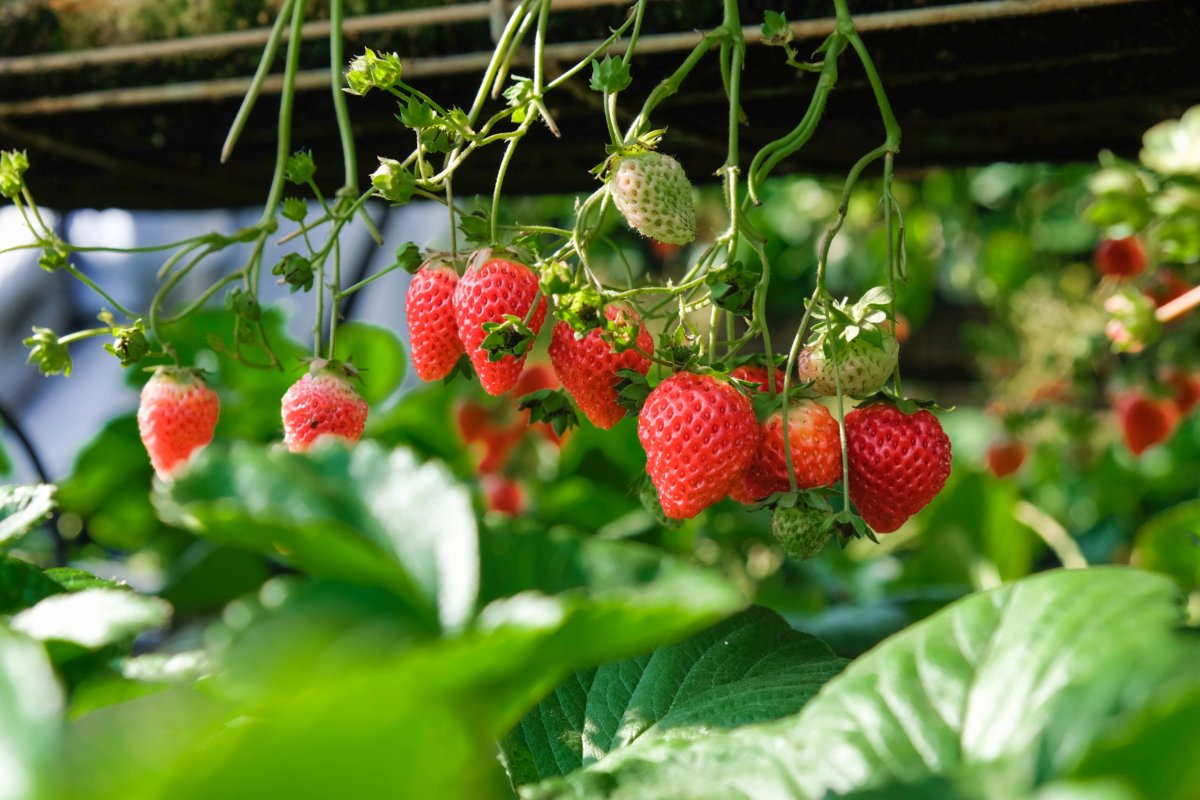ripe: (640, 375, 763, 518), (840, 394, 957, 543), (545, 288, 655, 436), (453, 247, 549, 402), (133, 366, 228, 480), (279, 368, 371, 470), (405, 263, 474, 385)
unripe: (608, 142, 707, 251), (321, 313, 415, 416), (758, 400, 853, 499), (800, 315, 896, 406), (773, 494, 847, 563)
